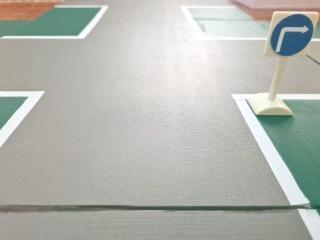right: (263, 9, 317, 62)
